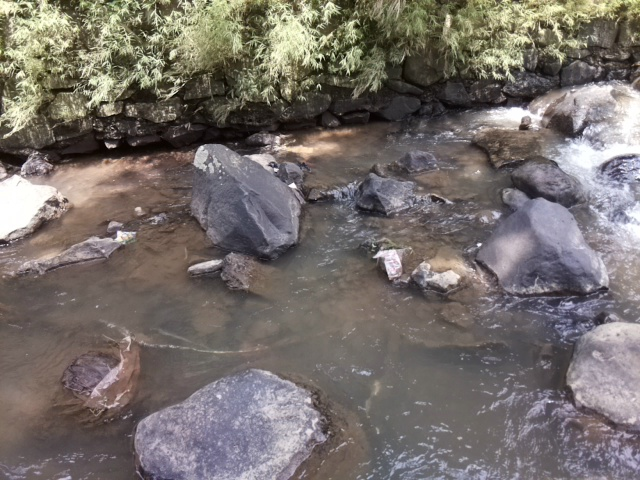Sampah_Plastik: (372, 248, 403, 281)
